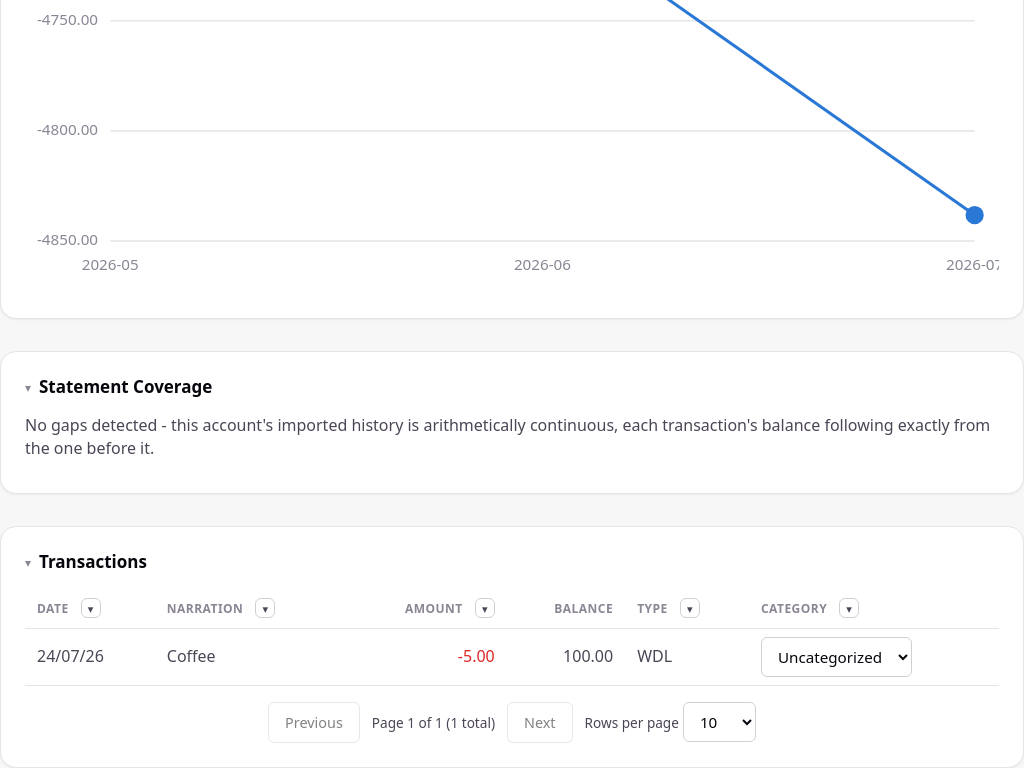
AccountDetailPage › surfaces a failed category change
(page scrolled)
Expected: the text "Coffee" is shown, [155,629,344,685]
Select "Groceries" in the dropdown named "Category for Coffee". click: [836, 657]
box: [761,637,912,677]
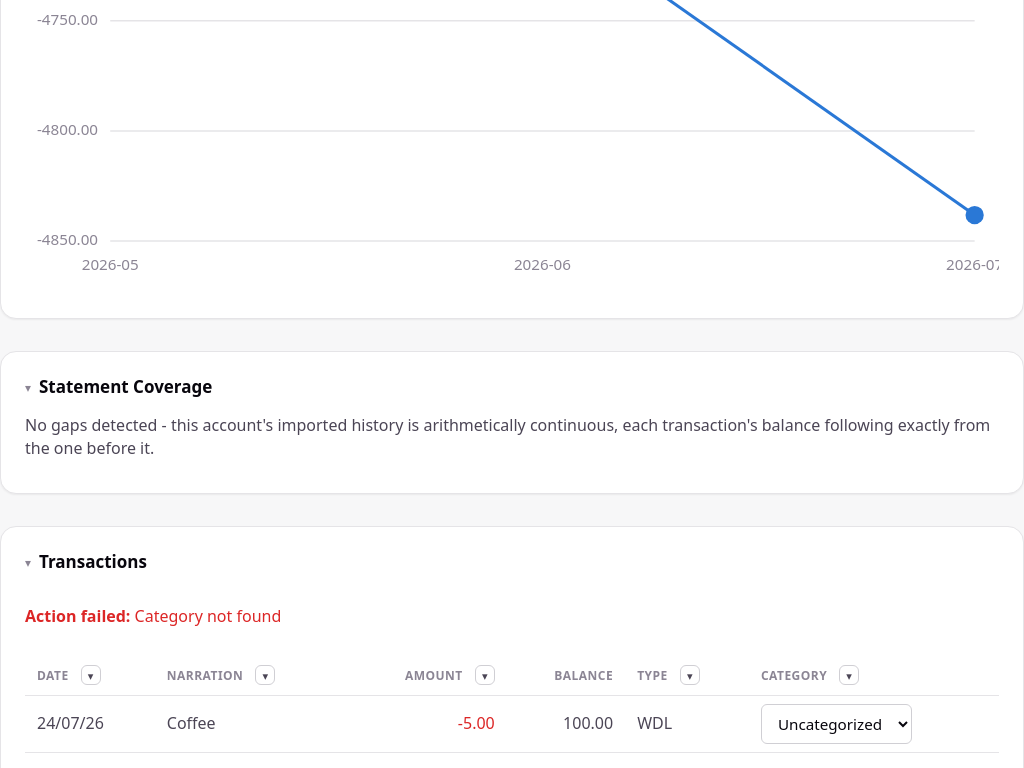
Now the text "Action failed: Category not found" is shown, box [25,605,281,627]
